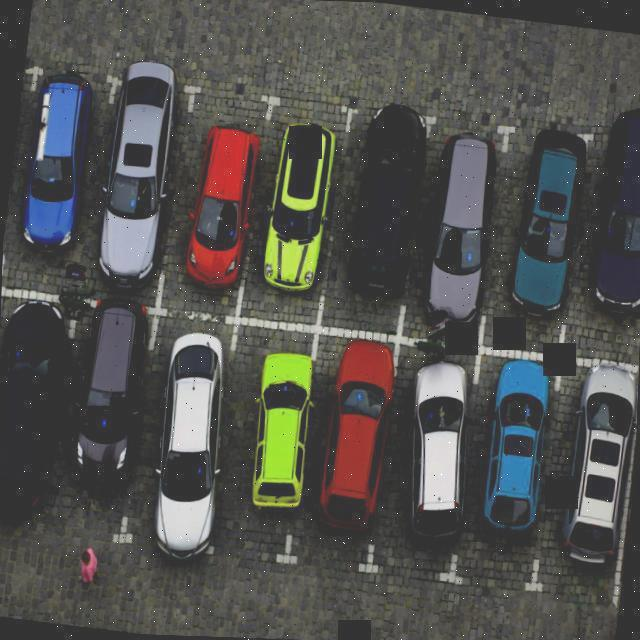car: (195, 318, 312, 564), (283, 327, 399, 573), (1, 59, 119, 298), (40, 298, 155, 542), (315, 103, 432, 340), (446, 349, 561, 588), (120, 309, 234, 546), (234, 104, 348, 340), (157, 91, 274, 319), (78, 79, 192, 310), (478, 126, 588, 362), (368, 336, 478, 572), (396, 115, 506, 350), (530, 363, 638, 599), (558, 121, 640, 365), (0, 290, 73, 532)
